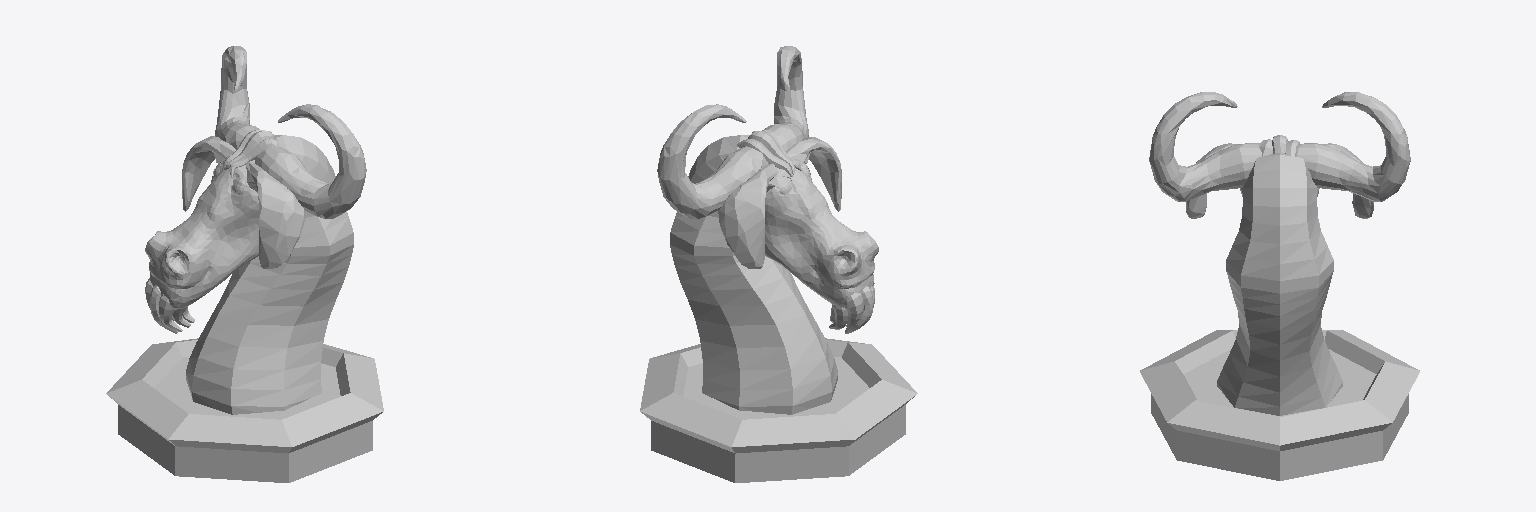
The model's file is Base Knight.obj.
3 renders of one model, left to right at view 1: azimuth 30°, elevation 25°; view 2: azimuth 150°, elevation 25°; view 3: azimuth 270°, elevation 25°, orthographic.
Visible parts, largest first — view 1: Circle; view 2: Circle; view 3: Circle.
Part boxes in pixels (x1,y1,x2,y2): Circle: (106, 46, 383, 482); Circle: (640, 46, 917, 482); Circle: (1140, 92, 1419, 480).
Bounding box in the file's own units: 1.87 × 2.6 × 1.92.